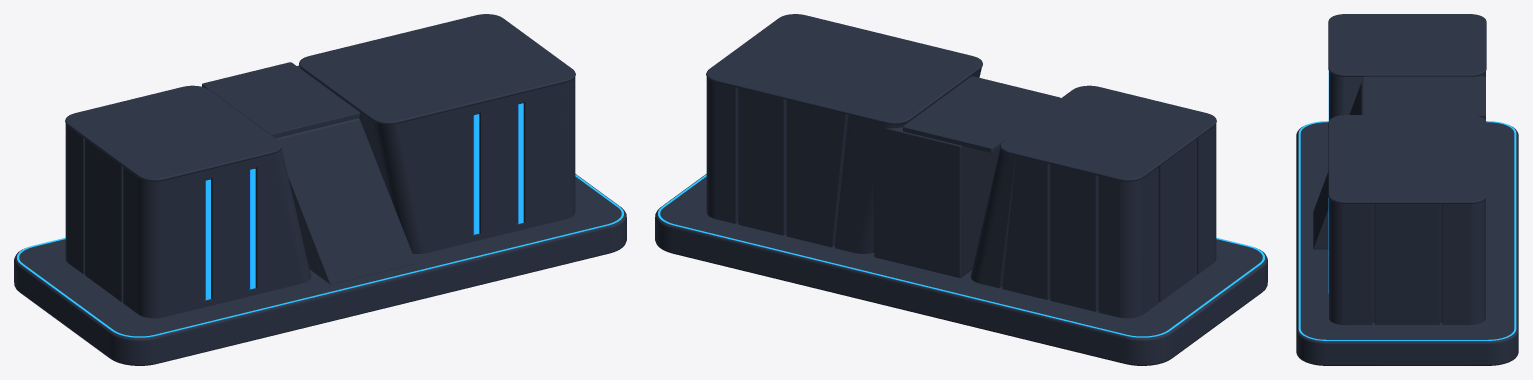
The model's file is pn_ent_datacenter.glb.
The picture shows the model from 3 angles, left to right: view 1: azimuth 30°, elevation 25°; view 2: azimuth 150°, elevation 25°; view 3: azimuth 270°, elevation 25°; orthographic projection. The views are drawn at different scales.
Parts seen in each view (by area): view 1: datacenter, luz_07; view 2: datacenter; view 3: datacenter.
Boxes of the visible parts, x1=… form: datacenter: x1=14, y1=14, x2=626, y2=365; luz_07: x1=518, y1=103, x2=523, y2=223; datacenter: x1=655, y1=14, x2=1267, y2=365; datacenter: x1=1296, y1=14, x2=1518, y2=365.
Size of the model in its own units: 2.9 by 0.9057 by 1.23.
